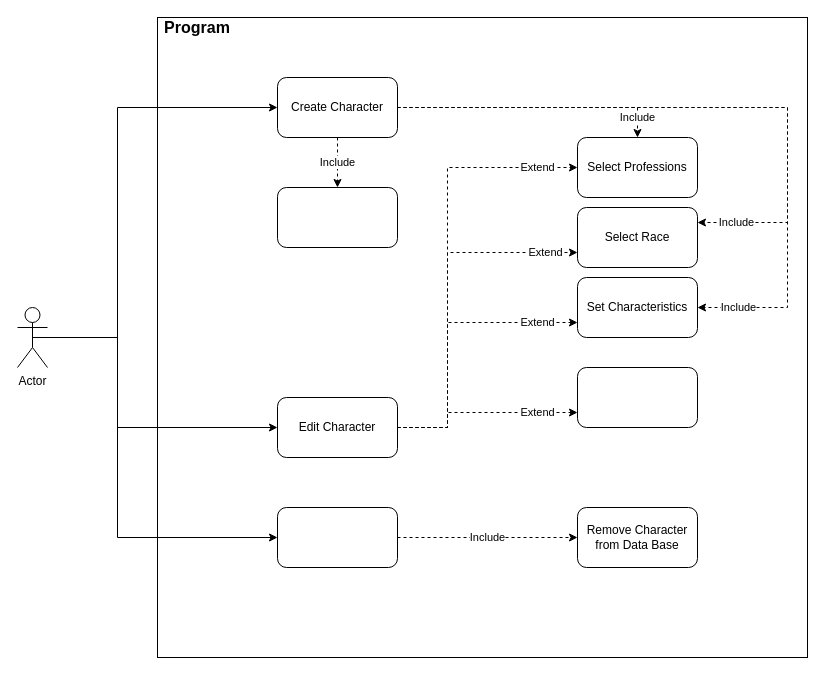
Some shapes in this 825 by 675 pixel diagram are drawn without their labels. Here are the shapes that lost their labels. From the top down, the centre of each, then its label:
(x=337, y=217): Add Character to Data Base
(x=637, y=397): Change Character in Database
(x=337, y=537): Delete Character
